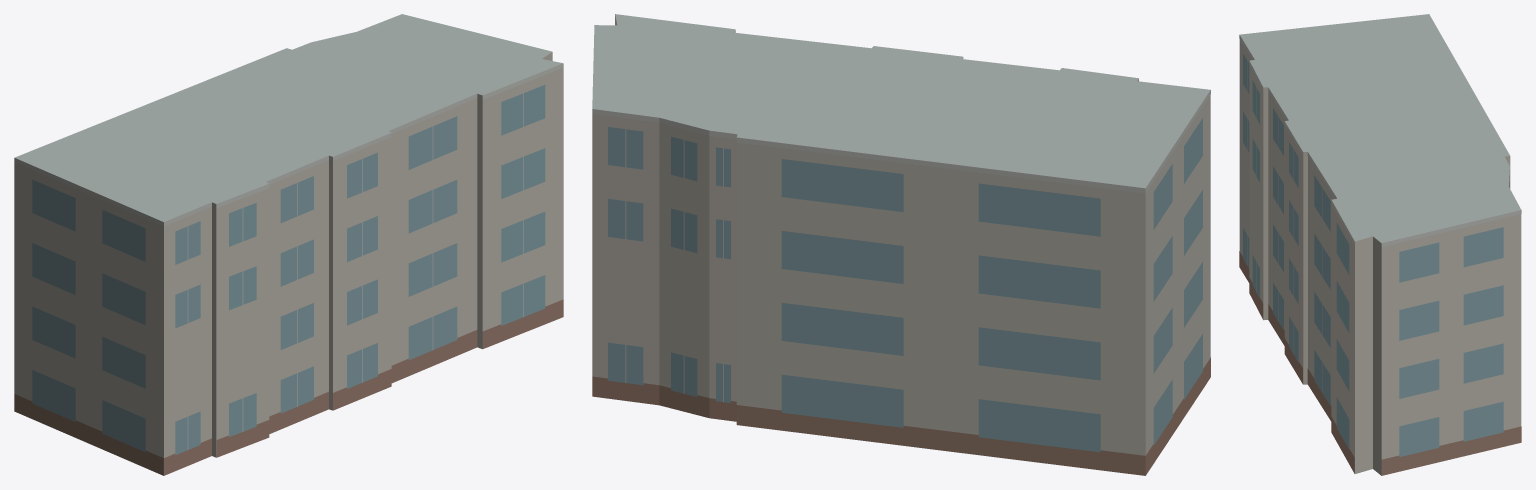
The model's file is survey-upis-32820331.glb.
3 views of the same model, side by side, from view 1: azimuth 30°, elevation 25°; view 2: azimuth 150°, elevation 25°; view 3: azimuth 270°, elevation 25° (orthographic). The views are drawn at different scales.
Visible parts, largest first — view 1: survey-upis-32820331.tmp; view 2: survey-upis-32820331.tmp; view 3: survey-upis-32820331.tmp.
Part boxes in pixels (bbox=[...]): survey-upis-32820331.tmp: bbox=[14, 14, 563, 475]; survey-upis-32820331.tmp: bbox=[592, 14, 1210, 475]; survey-upis-32820331.tmp: bbox=[1239, 14, 1521, 475].
Size of the model in its own units: 29.94 by 14.16 by 15.57.
